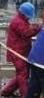boots: (1, 1, 1, 1), (0, 1, 1, 1)
hard-hat: (18, 1, 35, 18)
ppe-suit: (0, 13, 43, 98)
